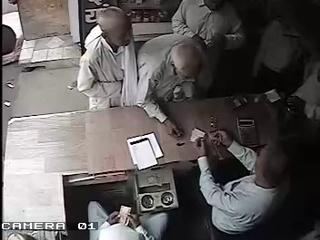Normal: (195, 123, 292, 240), (136, 34, 212, 136), (170, 0, 248, 97), (98, 210, 168, 240)
shoplifting: (76, 6, 139, 111)
